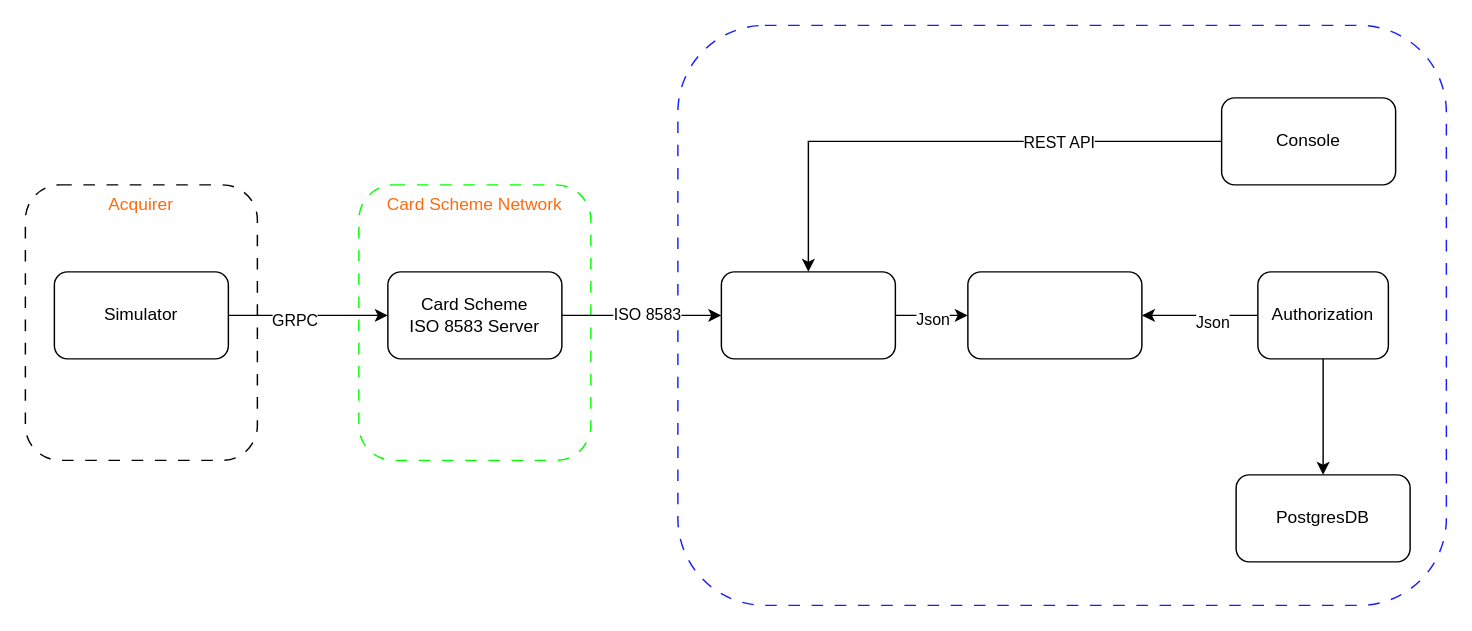
This 1472x631 diagram has some shape labels left out. Here are the shapes that lost their labels. From the top down, the box of each, then its label:
(720, 270, 895, 359): Gateway ISO 8583 Client
(966, 270, 1142, 359): Kafka Cluster
(676, 24, 1446, 605): Issuer
